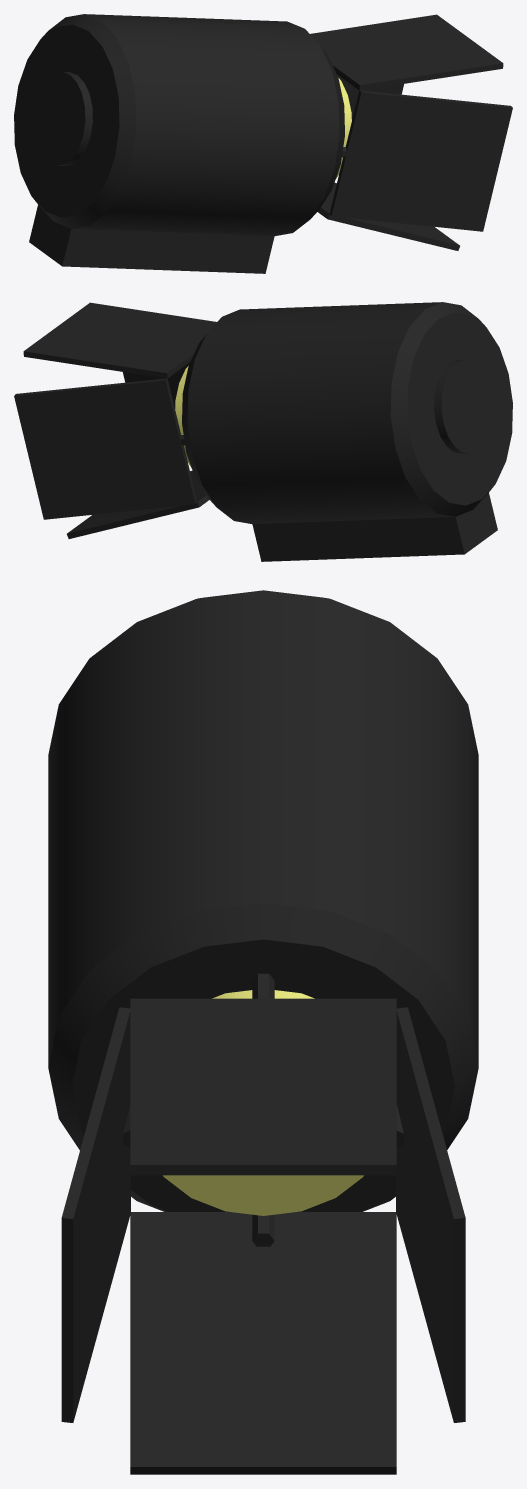
The model's file is Stage_StageLight_Medium.fbx.
3 views of the same model, one above another, from view 1: azimuth 30°, elevation 25°; view 2: azimuth 150°, elevation 25°; view 3: azimuth 270°, elevation 25° (orthographic). The views are drawn at different scales.
Visible parts, largest first — view 1: Stage_StageLight_Medium; view 2: Stage_StageLight_Medium; view 3: Stage_StageLight_Medium.
Part boxes in pixels (left/top/right/bottom): Stage_StageLight_Medium: left=14, top=14, right=512, bottom=273; Stage_StageLight_Medium: left=14, top=302, right=512, bottom=561; Stage_StageLight_Medium: left=48, top=590, right=478, bottom=1474.
Bounding box in the file's own units: 147 × 94.27 × 64.67.
